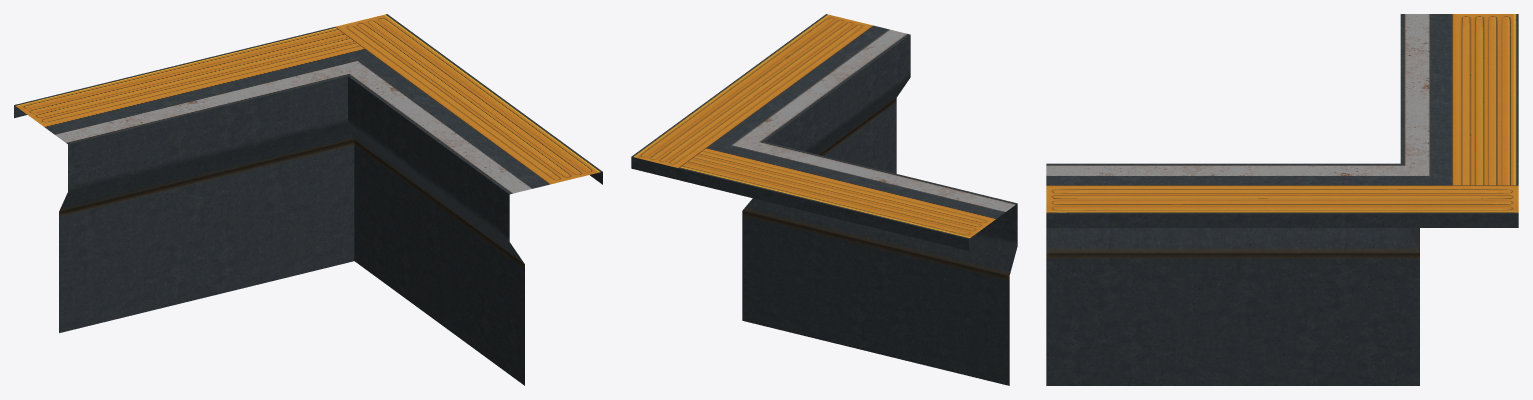
File: SM_FloorBorderSmallCorner.FBX
3 views of the same model, side by side, from view 1: azimuth 30°, elevation 25°; view 2: azimuth 150°, elevation 25°; view 3: azimuth 270°, elevation 25° (orthographic). The views are drawn at different scales.
Parts seen in each view (by area): view 1: SM_FloorBorderSmallCorner; view 2: SM_FloorBorderSmallCorner; view 3: SM_FloorBorderSmallCorner.
Part boxes in pixels (bbox=[...]): SM_FloorBorderSmallCorner: bbox=[14, 14, 602, 385]; SM_FloorBorderSmallCorner: bbox=[631, 14, 1017, 385]; SM_FloorBorderSmallCorner: bbox=[1046, 14, 1518, 385].
Size of the model in its own units: 200 by 200 by 100.
